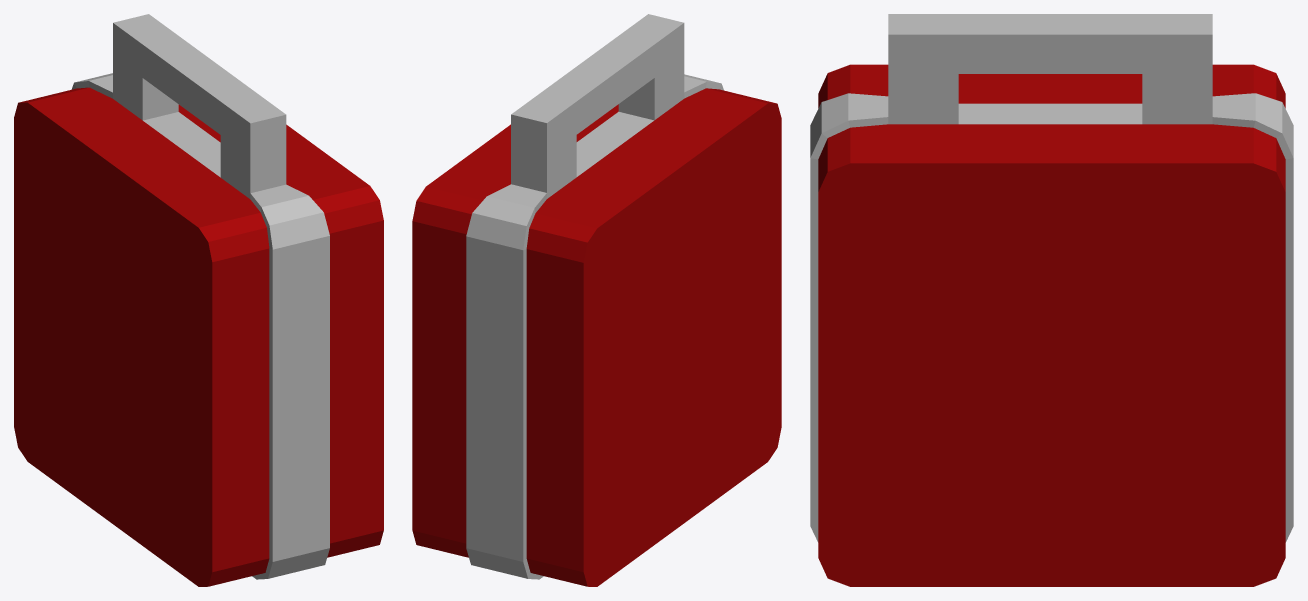
The model's file is Medkit.fbx.
The picture shows the model from 3 angles, left to right: view 1: azimuth 30°, elevation 25°; view 2: azimuth 150°, elevation 25°; view 3: azimuth 270°, elevation 25°; orthographic projection. The views are drawn at different scales.
Visible parts, largest first — view 1: Medkit; view 2: Medkit; view 3: Medkit.
Boxes of the visible parts, left/top/right/bottom form: Medkit: left=14, top=14, right=383, bottom=586; Medkit: left=412, top=14, right=781, bottom=586; Medkit: left=810, top=14, right=1293, bottom=586.
Bounding box in the file's own units: 100 × 246 × 207.
